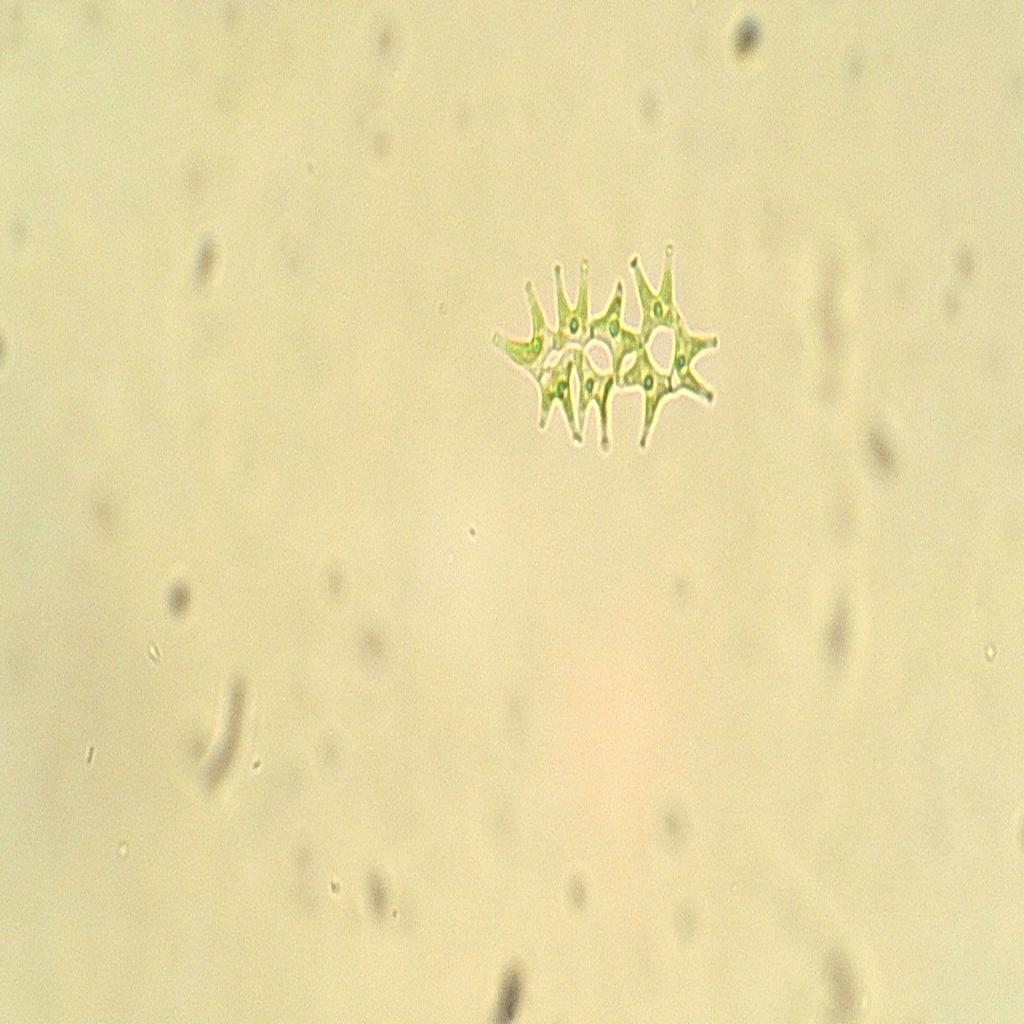Pediastrum_1TH: (474, 235, 744, 482)
